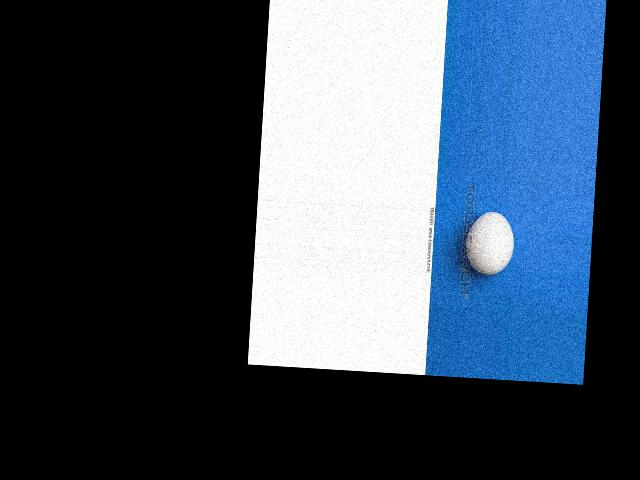egg: (462, 210, 515, 276)
